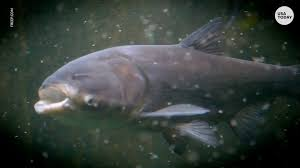carp: (32, 16, 300, 157)
